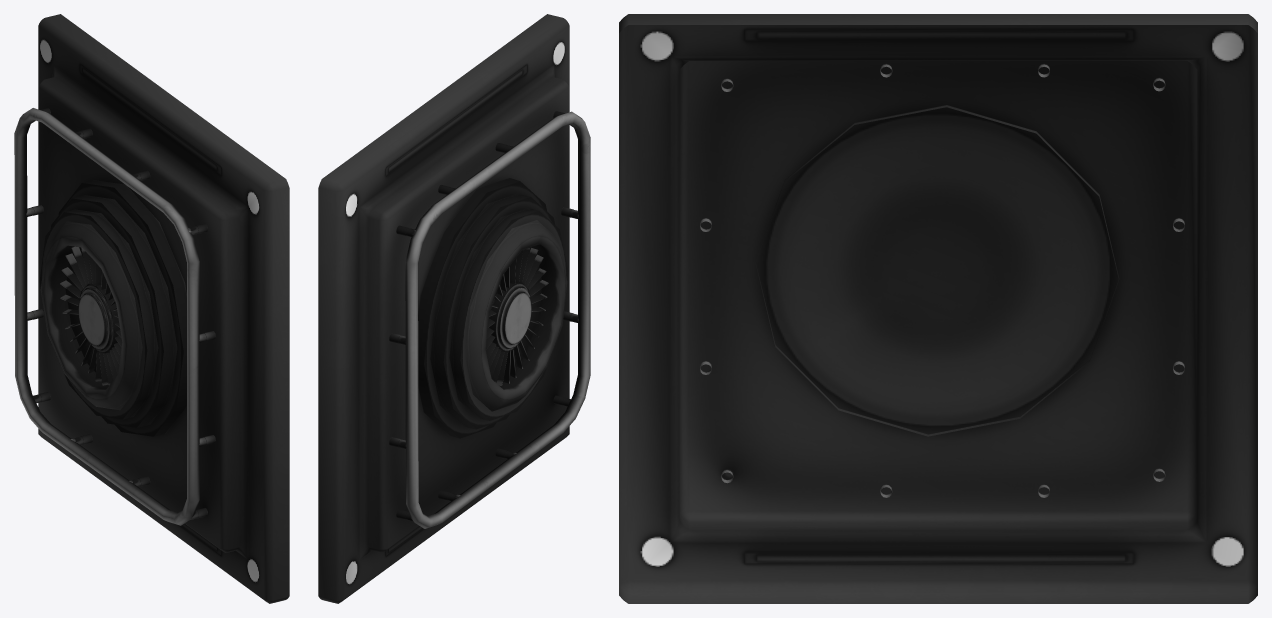
The model's file is Sci-fi vernt unity export.fbx.
The picture shows the model from 3 angles, left to right: view 1: azimuth 30°, elevation 25°; view 2: azimuth 150°, elevation 25°; view 3: azimuth 270°, elevation 25°; orthographic projection. The views are drawn at different scales.
Visible parts, largest first — view 1: Vent_low; view 2: Vent_low; view 3: Vent_low.
Boxes of the visible parts, x1,y1,x2,y2 form: Vent_low: [14, 14, 289, 603]; Vent_low: [318, 14, 590, 603]; Vent_low: [619, 14, 1257, 603].
Size of the model in its own units: 11.08 by 50 by 50.
